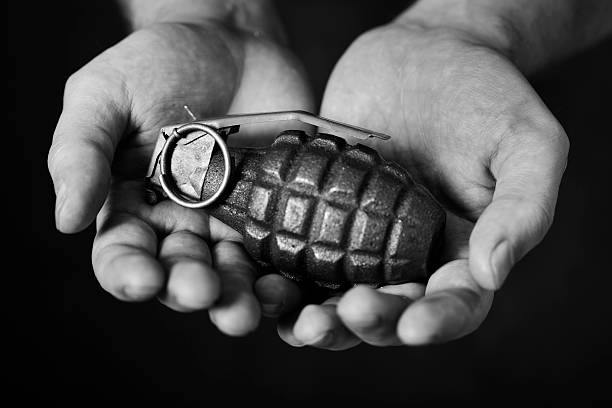e1: (142, 107, 443, 284)
